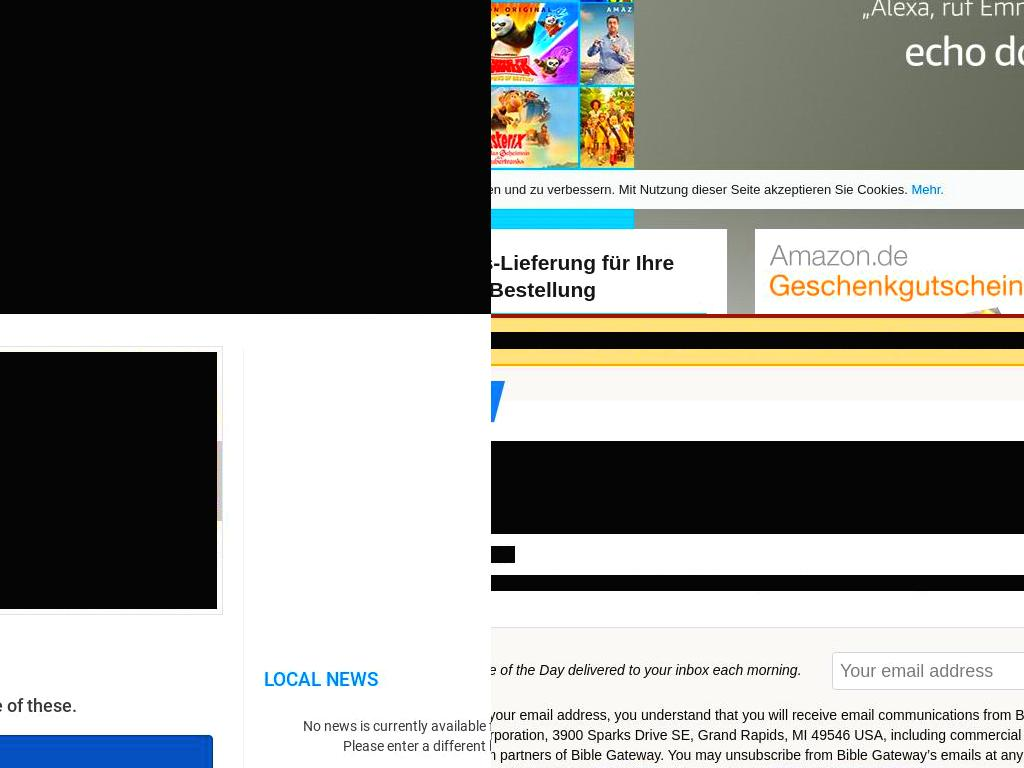button: (0, 0, 491, 314), (217, 352, 491, 609), (0, 352, 217, 609), (0, 735, 213, 768), (177, 440, 222, 521)
field: (831, 652, 1024, 690)
heading: (491, 249, 708, 303), (247, 543, 491, 590), (0, 543, 121, 590), (0, 696, 203, 715)
iframe: (754, 229, 1024, 314)
image: (0, 0, 491, 314), (425, 180, 485, 241), (188, 460, 211, 501)
link: (491, 332, 689, 349), (539, 575, 703, 591), (894, 332, 1024, 349), (928, 575, 1024, 591), (911, 182, 945, 197), (247, 528, 281, 543), (491, 546, 515, 563)
text: (491, 441, 1024, 534), (491, 707, 1024, 768), (491, 182, 909, 197), (264, 666, 452, 696), (491, 662, 802, 678), (703, 575, 930, 591), (687, 332, 894, 349), (303, 718, 491, 734), (343, 738, 491, 754), (491, 575, 540, 591), (293, 530, 342, 543), (190, 588, 204, 602), (179, 588, 190, 602), (172, 588, 179, 602)
